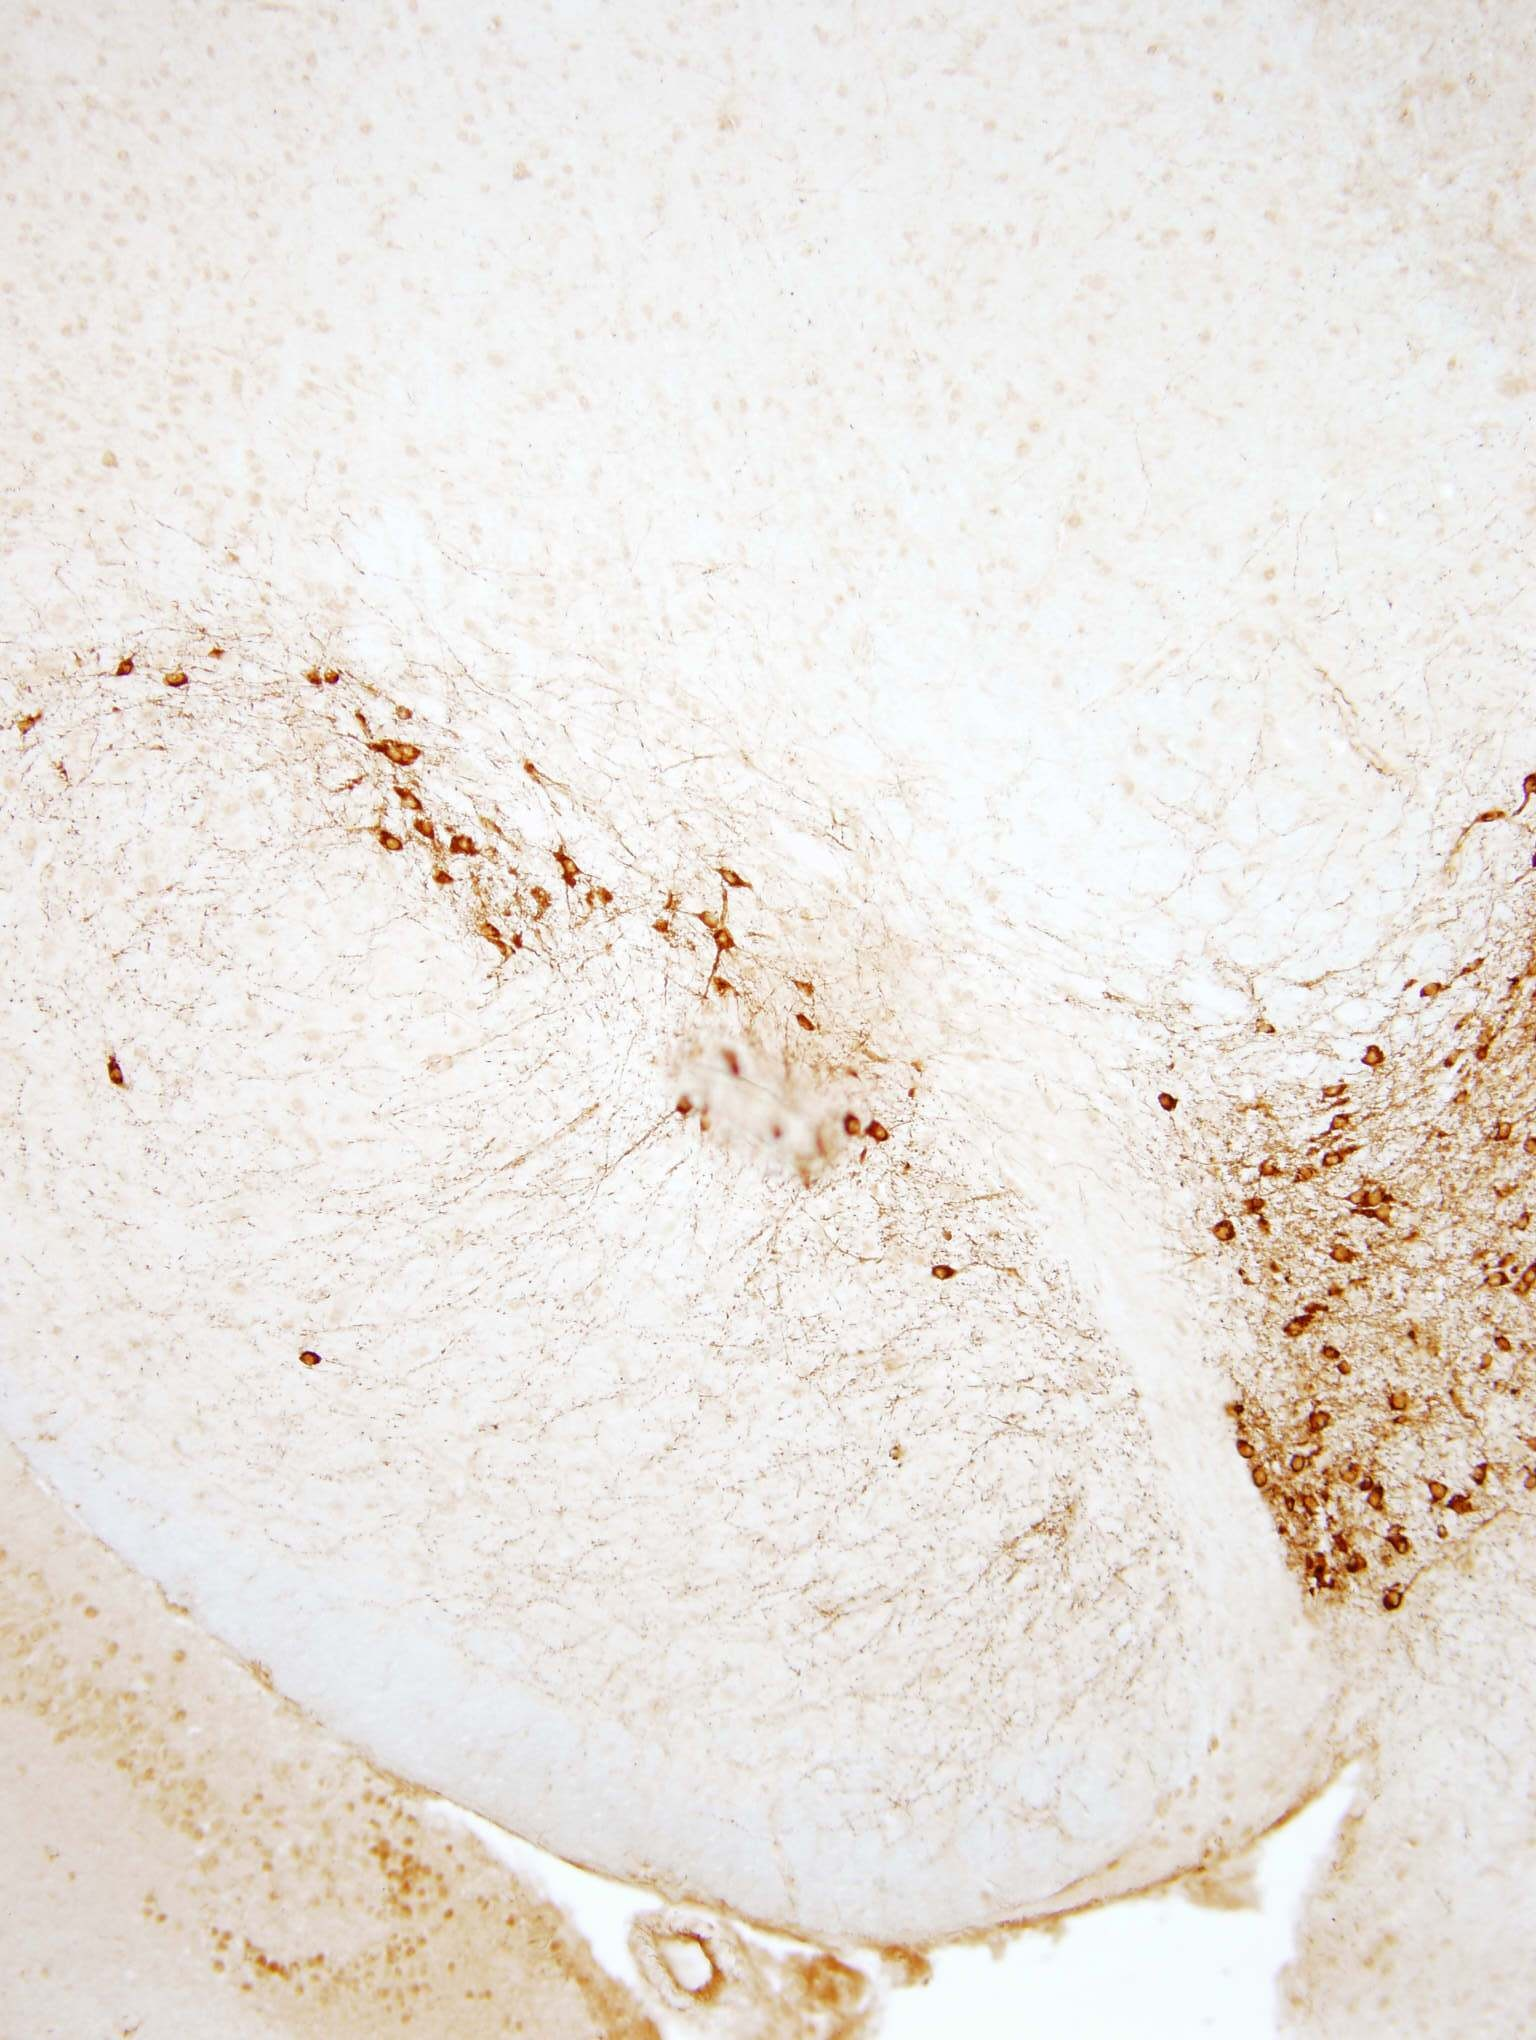neuron: (158, 661, 207, 710), (6, 706, 55, 755), (106, 652, 153, 698), (1233, 1426, 1270, 1463), (1279, 1309, 1317, 1347), (1355, 1480, 1392, 1518), (1471, 1039, 1509, 1076), (687, 905, 724, 942), (921, 1264, 958, 1301), (1150, 1089, 1187, 1124), (1241, 1463, 1276, 1500), (1284, 1450, 1321, 1485), (1304, 1401, 1341, 1437), (1312, 1330, 1347, 1368), (1320, 1106, 1355, 1143), (1329, 1358, 1367, 1393), (1333, 1180, 1368, 1218), (1334, 1451, 1370, 1488), (1367, 1174, 1404, 1209), (1371, 1585, 1407, 1622), (1376, 1382, 1413, 1418), (1381, 1406, 1417, 1443), (1417, 1479, 1454, 1514), (1446, 1084, 1481, 1121), (1468, 1347, 1505, 1382), (1481, 1268, 1517, 1305), (374, 831, 411, 866), (390, 784, 428, 819), (555, 851, 591, 889), (703, 921, 741, 956), (715, 864, 750, 901), (837, 1106, 874, 1142), (98, 1056, 136, 1092), (1207, 1219, 1242, 1255), (1242, 1197, 1278, 1232), (1252, 1151, 1288, 1187), (1286, 1161, 1321, 1197), (1292, 1485, 1328, 1521), (1315, 1139, 1350, 1174), (1318, 1069, 1354, 1105), (1325, 1239, 1360, 1274), (1338, 1543, 1373, 1579), (1359, 1040, 1394, 1076), (1368, 1203, 1404, 1239), (1376, 1521, 1412, 1556), (1412, 976, 1447, 1011), (1436, 1042, 1471, 1077), (1444, 1492, 1480, 1527), (1459, 943, 1494, 979), (1465, 1456, 1501, 1492), (1486, 1116, 1521, 1151), (1486, 1235, 1521, 1271), (1492, 1326, 1528, 1361), (295, 1342, 331, 1377), (407, 814, 442, 850), (450, 831, 486, 866), (523, 882, 558, 918), (670, 1093, 705, 1129), (789, 1008, 824, 1043), (866, 1118, 902, 1153), (323, 668, 347, 692), (379, 743, 403, 768), (399, 743, 423, 768), (394, 702, 416, 726)
